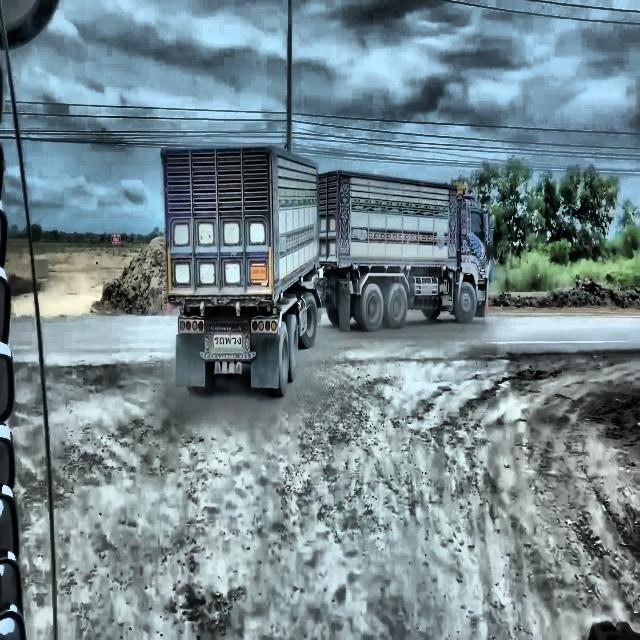trailer: (162, 143, 490, 401)
